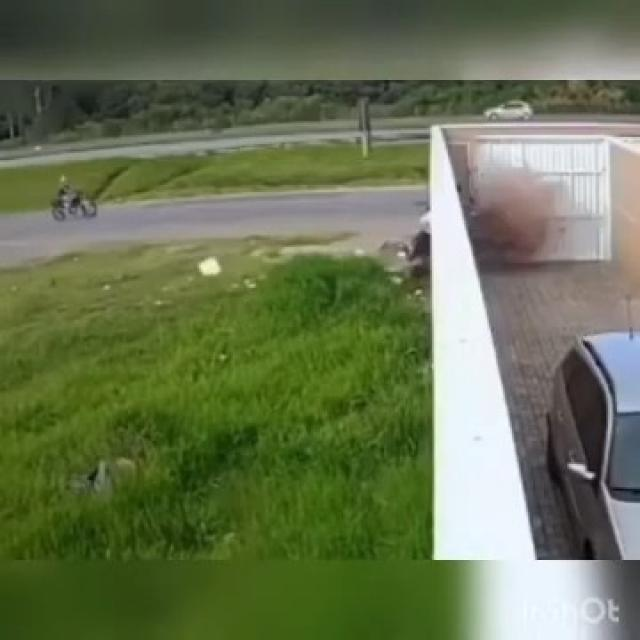accident: (409, 164, 443, 274)
